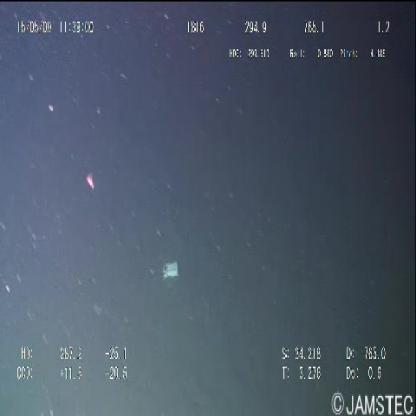Rác: (162, 262, 180, 279)
